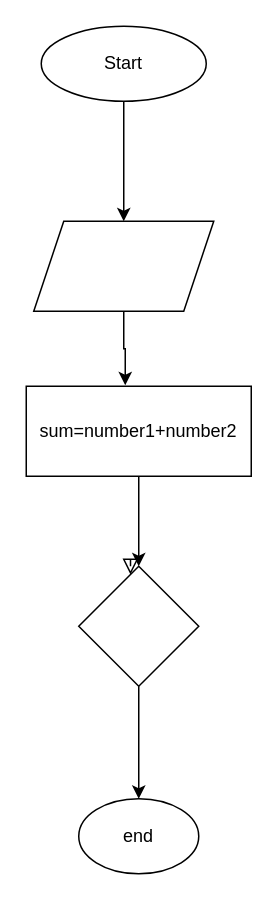
This 278x900 diagram has some shape labels left out. Each missing label, with the centre of its shape:
"input number1 number2" goes at [123,265].
"sum" goes at [138,625].
